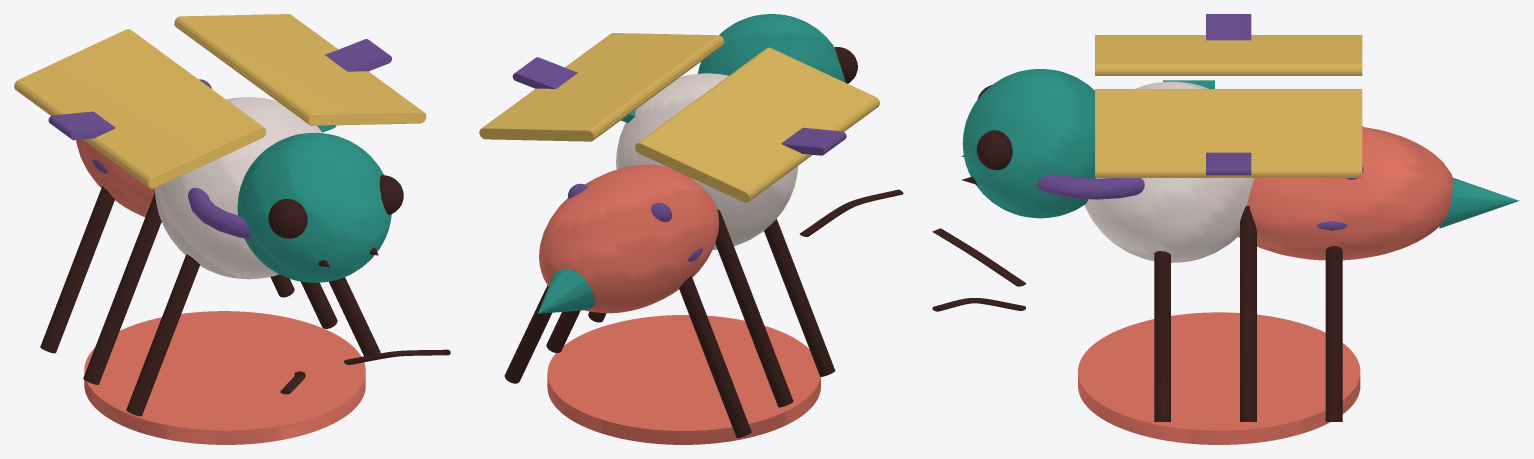
Rendered from 0304_古生代动物图鉴_巨脉蜻蜓.glb.
3 renders of one model, left to right at view 1: azimuth 30°, elevation 25°; view 2: azimuth 150°, elevation 25°; view 3: azimuth 270°, elevation 25°, orthographic. The views are drawn at different scales.
Parts seen in each view (by area): view 1: card_0304; view 2: card_0304; view 3: card_0304.
Part boxes in pixels (x1,y1,x2,y2): card_0304: (14,14,450,444); card_0304: (479,14,903,444); card_0304: (932,14,1519,444).
Size of the model in its own units: 1.08 by 1 by 1.72.
